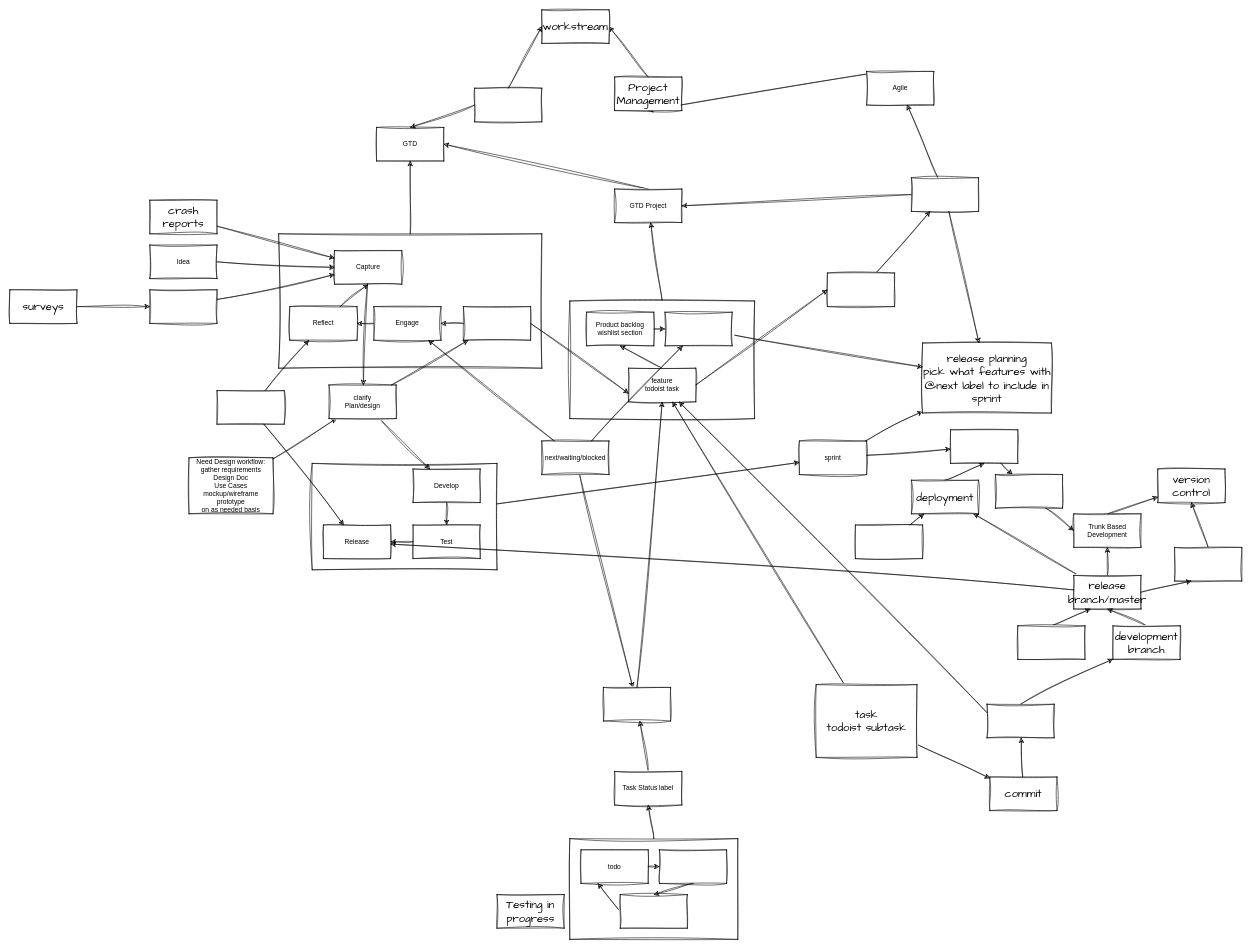
The diagram is 1252 pixels wide and 949 high, and some of its shapes have lost their labels. The shapes that lost their labels are listed below. From the top down, each one's box as (x1, y1, x2, y2) in pixels, then its label:
(474, 88, 542, 122): Task Management
(911, 177, 979, 211): team
(149, 289, 217, 323): feedback
(827, 272, 895, 307): team member
(463, 306, 531, 340): Organize
(664, 312, 732, 346): sprint backlog todoist section some will be @next
(216, 390, 284, 424): Post release review
(950, 429, 1018, 463): ci/cd
(995, 474, 1063, 508): integration
(855, 524, 923, 559): package manager repository
(1174, 547, 1242, 581): Git repository
(1017, 625, 1085, 659): hotfix
(603, 687, 671, 721): Labels
(986, 704, 1054, 738): feature branch
(659, 849, 727, 883): doing
(620, 894, 687, 928): done
